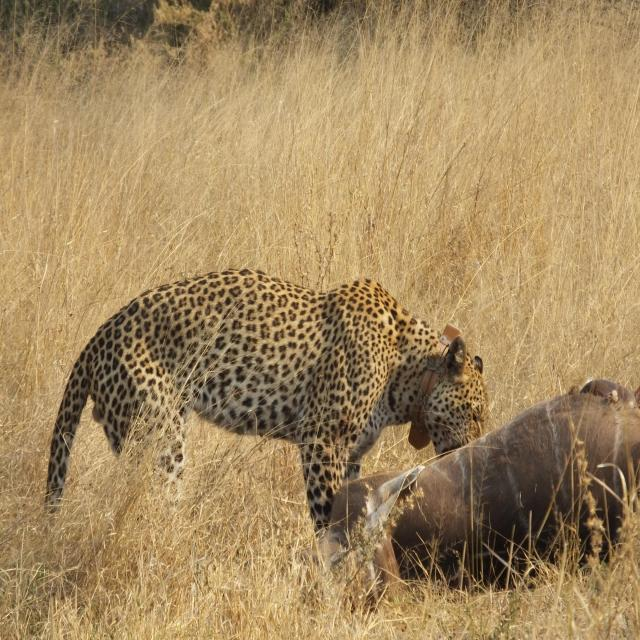Leopard: (47, 266, 492, 536)
